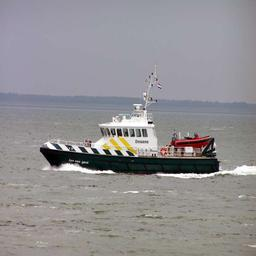Ship: (37, 107, 224, 177)
